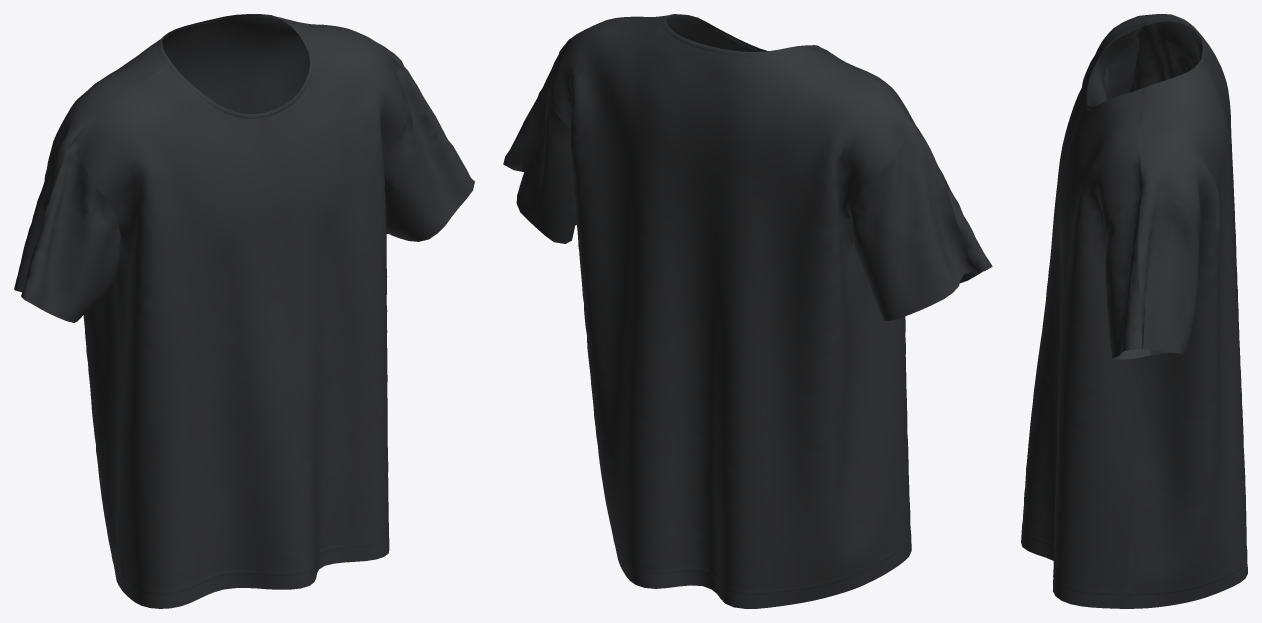
3 views of the same model, side by side, from view 1: azimuth 30°, elevation 25°; view 2: azimuth 150°, elevation 25°; view 3: azimuth 270°, elevation 25° (orthographic). The views are drawn at different scales.
Visible parts, largest first — view 1: 短袖; view 2: 短袖; view 3: 短袖.
Boxes of the visible parts, x1,y1,x2,y2 form: 短袖: [14, 14, 474, 608]; 短袖: [503, 14, 992, 608]; 短袖: [1021, 14, 1247, 608].
Bounding box in the file's own units: 0.5888 × 0.633 × 0.2566.
Materials: 6 (6 with a texture image).
